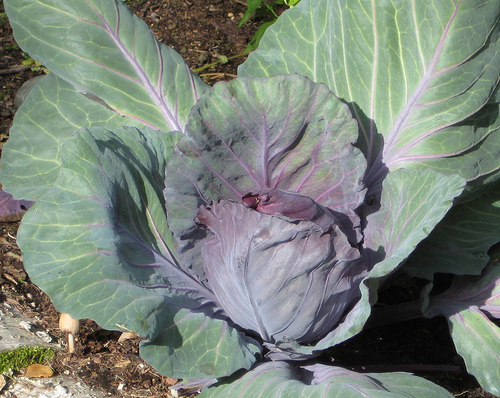cabbage: (191, 190, 359, 344)
